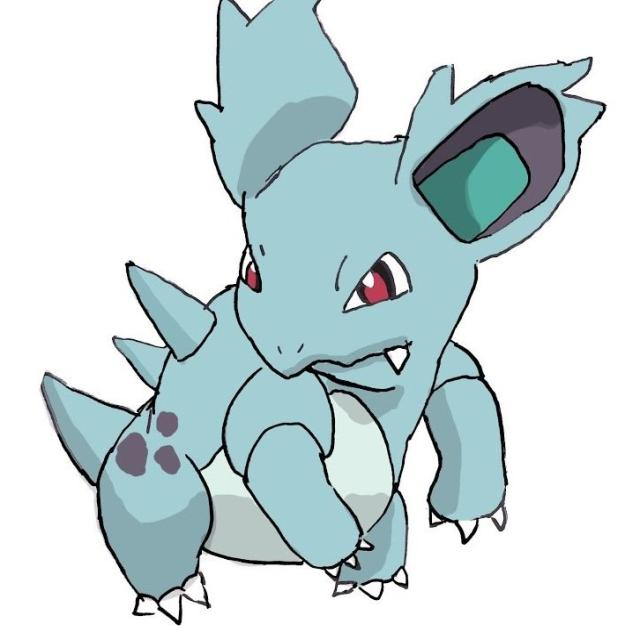Nidorina: (30, 0, 583, 612)
